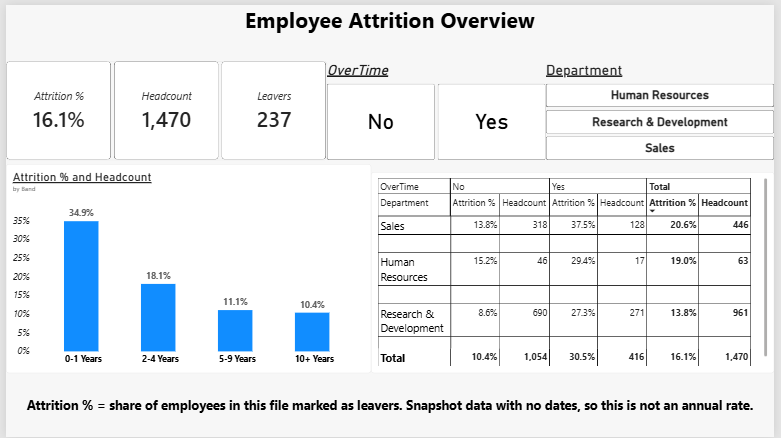

The page's visual inventory and layout, read from the dashboard file:
{"tool":"powerbi","page":{"name":"Page 1","canvas":[1920,1080],"ordinal":0},"visuals":[{"type":"cardVisual","fields":{"Data":["employees.Attrition %","employees.Headcount","employees.Leavers"]},"box":[0,140,802.5,247.5],"z":0},{"type":"advancedSlicerVisual","fields":{"Values":["employees.OverTime"]},"box":[802.5,140,547.5,247.5],"z":1000},{"type":"lineClusteredColumnComboChart","fields":{"Category":["employees.Band"],"Y":["employees.Attrition %"]},"box":[0,397.5,912.5,522.5],"z":2000},{"type":"pivotTable","fields":{"Columns":["employees.OverTime"],"Rows":["employees.Department"],"Values":["employees.Attrition %","employees.Headcount"]},"box":[912.5,417.5,1007.5,502.5],"z":3000},{"type":"advancedSlicerVisual","fields":{"Values":["employees.Department"]},"box":[1350,140,570,247.5],"z":3001},{"type":"textbox","box":[0,0,1920,95],"z":3002},{"type":"textbox","box":[0,920,1920,160],"z":3003}]}

Visuals, with their boxes in screenshot pixels (x1, y1, x2, y2), scaled from the page's 1920x1080 canvas onto the 781x438 screenshot:
cardVisual - employees.Attrition % x employees.Headcount: bbox=[0, 57, 326, 157]
advancedSlicerVisual - employees.OverTime: bbox=[326, 57, 549, 157]
lineClusteredColumnComboChart - employees.Band x employees.Attrition %: bbox=[0, 161, 371, 373]
pivotTable - employees.OverTime x employees.Department: bbox=[371, 169, 780, 373]
advancedSlicerVisual - employees.Department: bbox=[549, 57, 780, 157]
textbox: bbox=[0, 0, 780, 39]
textbox: bbox=[0, 373, 780, 437]
